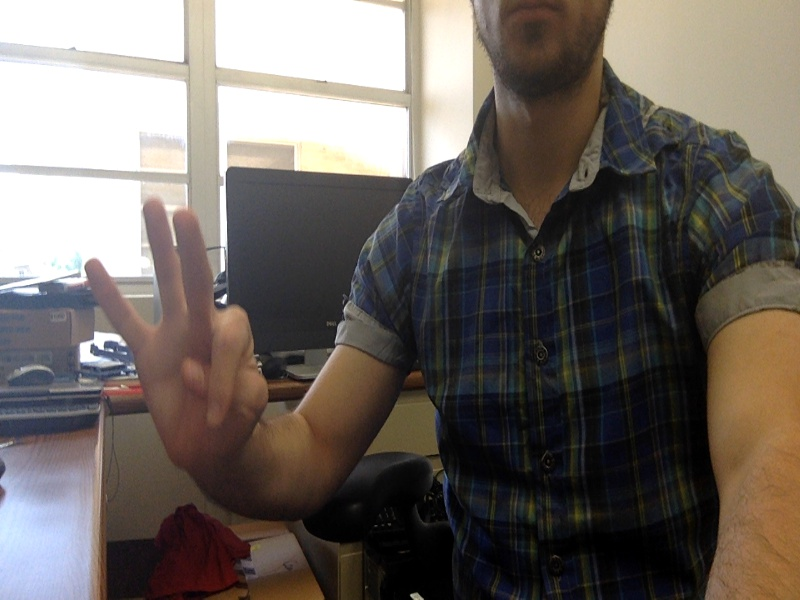3-hand: (84, 200, 269, 474)
